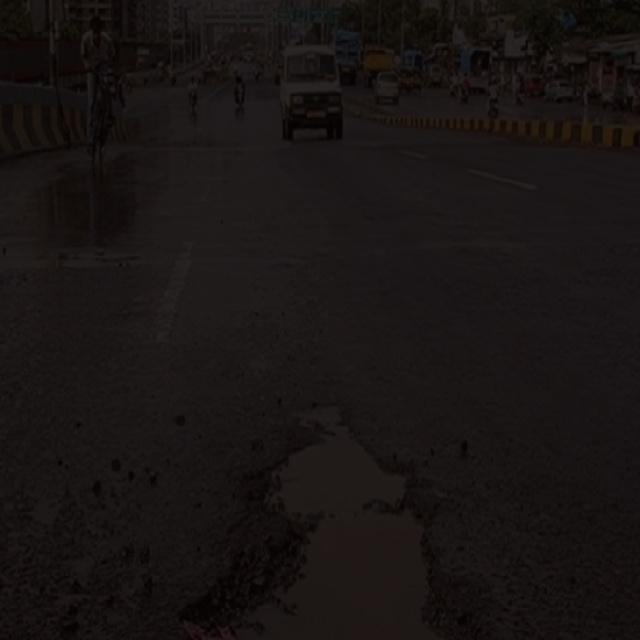Pothole: (170, 398, 494, 640)
